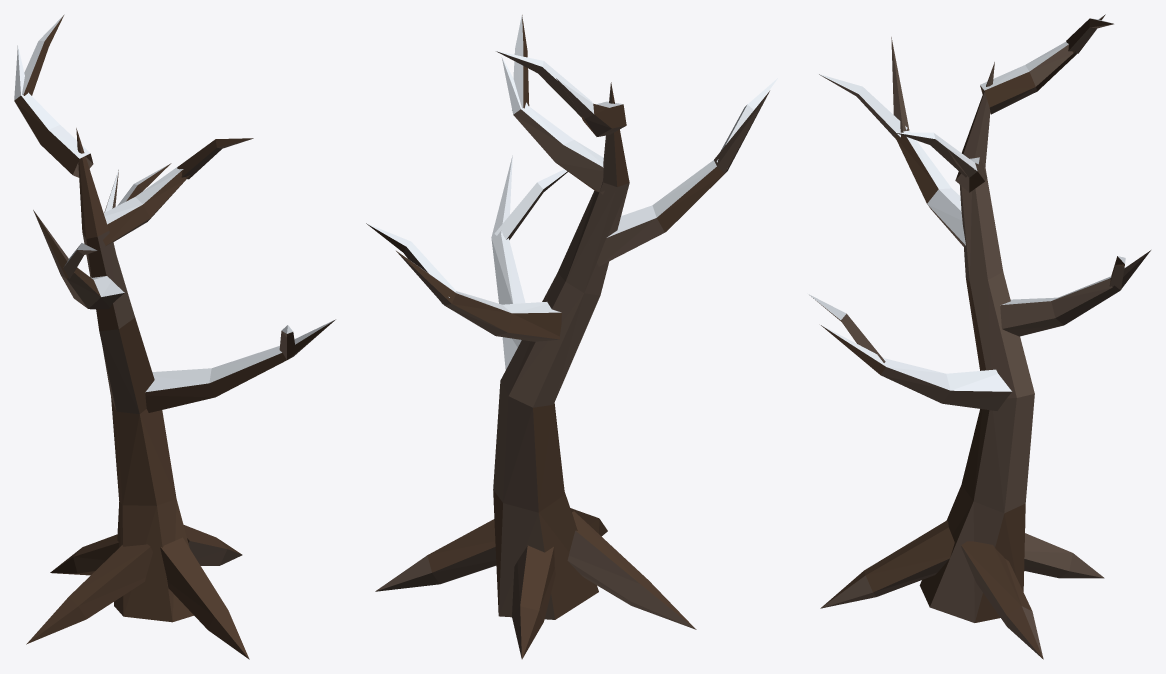
File: tree_dead_a.fbx
The picture shows the model from 3 angles, left to right: view 1: azimuth 30°, elevation 25°; view 2: azimuth 150°, elevation 25°; view 3: azimuth 270°, elevation 25°; orthographic projection. The views are drawn at different scales.
Visible parts, largest first — view 1: tree_dead_a; view 2: tree_dead_a; view 3: tree_dead_a.
Part boxes in pixels (x1=…): tree_dead_a: x1=14, y1=14, x2=335, y2=659; tree_dead_a: x1=366, y1=15, x2=777, y2=659; tree_dead_a: x1=808, y1=14, x2=1150, y2=659.
Bounding box in the file's own units: 2.75 × 5.12 × 2.81.
